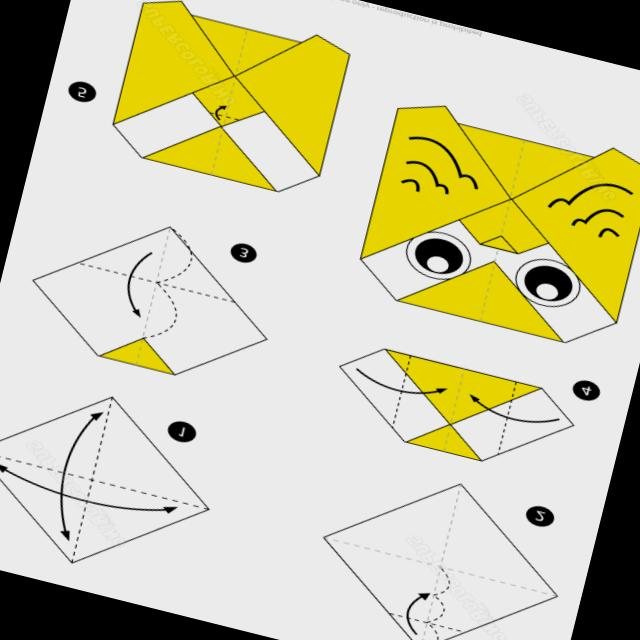arrow: (0, 464, 177, 513), (60, 411, 102, 539), (471, 394, 559, 422), (357, 368, 446, 393), (127, 252, 152, 316), (406, 592, 429, 633), (215, 105, 225, 119)
fold-line: (310, 528, 564, 604), (0, 444, 216, 516), (54, 253, 245, 310), (64, 390, 123, 568), (414, 473, 471, 640), (124, 221, 179, 374), (204, 19, 253, 183), (437, 358, 472, 457), (371, 605, 472, 639), (488, 374, 524, 468), (384, 348, 419, 433), (206, 108, 245, 124)
